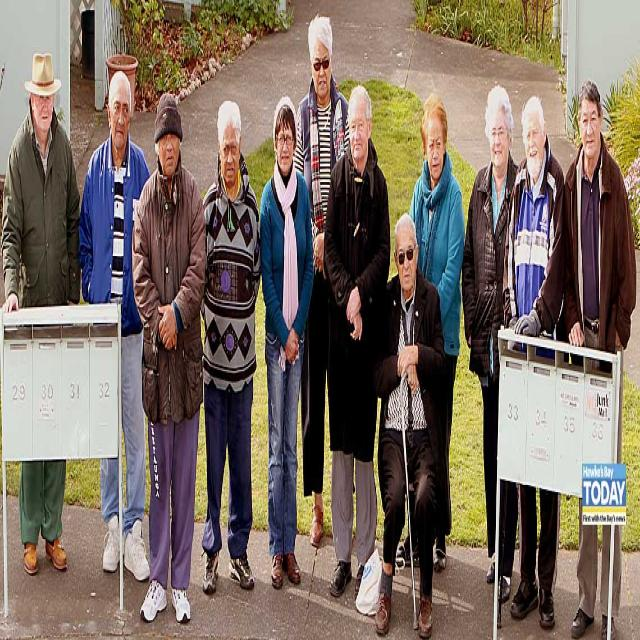body: (560, 74, 638, 639), (0, 48, 81, 578), (130, 84, 208, 629), (77, 70, 151, 583), (321, 78, 392, 610), (364, 207, 448, 638), (501, 91, 567, 631), (192, 94, 262, 599), (396, 91, 466, 576), (291, 10, 351, 550), (460, 81, 520, 606), (256, 90, 316, 596)
